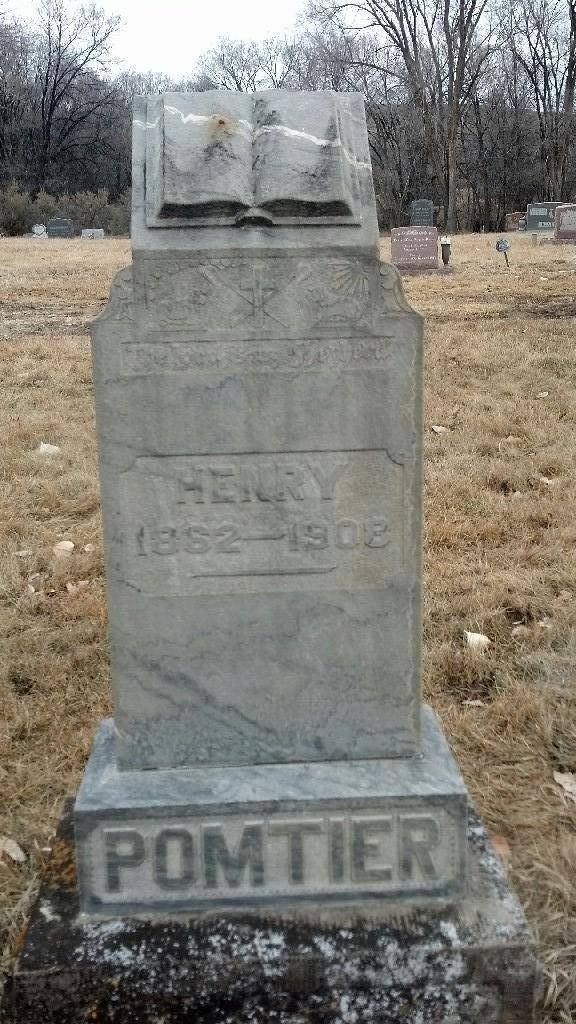upright: (34, 69, 550, 963)
